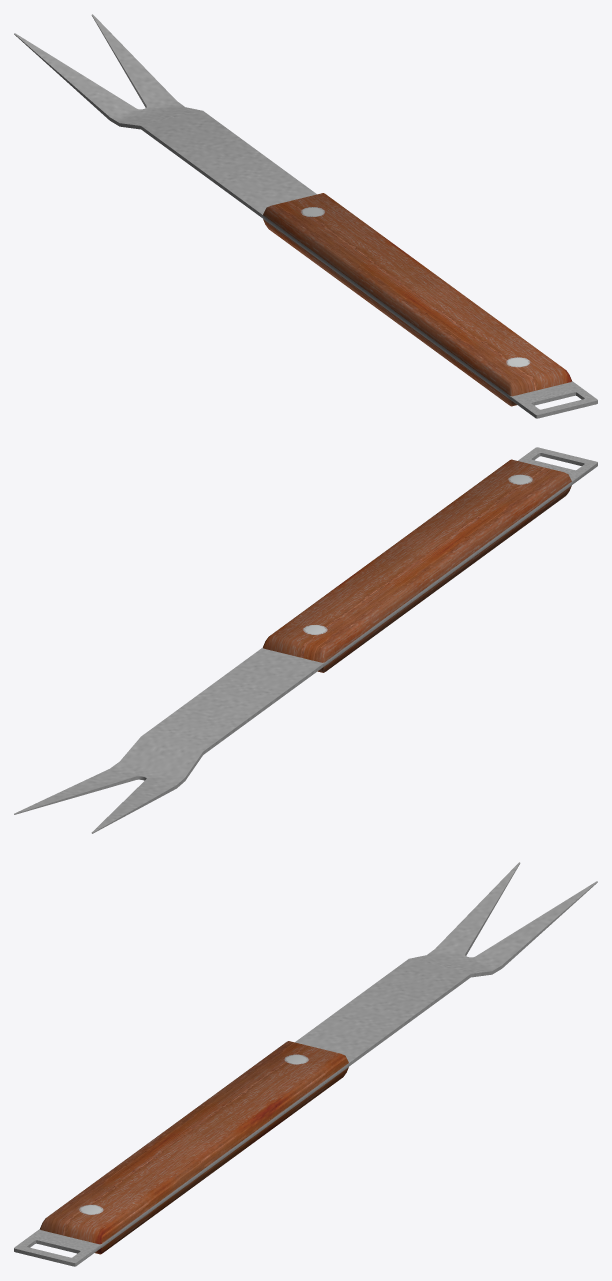
File: GardenKitchenTool01_4.FBX
3 views of the same model, one above another, from view 1: azimuth 30°, elevation 25°; view 2: azimuth 150°, elevation 25°; view 3: azimuth 330°, elevation 25° (orthographic).
Parts seen in each view (by area): view 1: GardenKitchenTool01_4; view 2: GardenKitchenTool01_4; view 3: GardenKitchenTool01_4.
Boxes of the visible parts, bbox=[...] form: GardenKitchenTool01_4: bbox=[14, 14, 597, 418]; GardenKitchenTool01_4: bbox=[14, 447, 597, 833]; GardenKitchenTool01_4: bbox=[14, 862, 597, 1266].
Size of what is drawn, in the model's own units: 0.0304 by 0.00949 by 0.3435.
